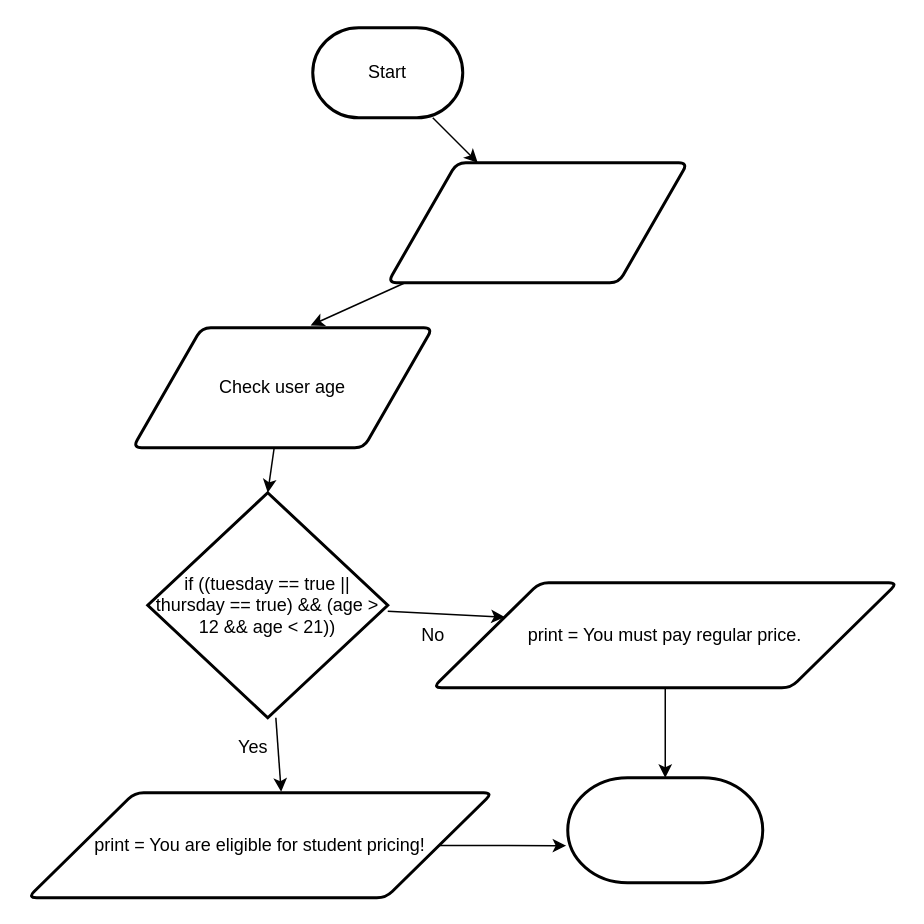
The diagram is 924 pixels wide and 924 high, and some of its shapes have lost their labels. Here are the shapes that lost their labels. From the top down, the box of each, then its label:
(386, 160, 688, 284): Check radio box for day
(566, 776, 764, 884): Stop
